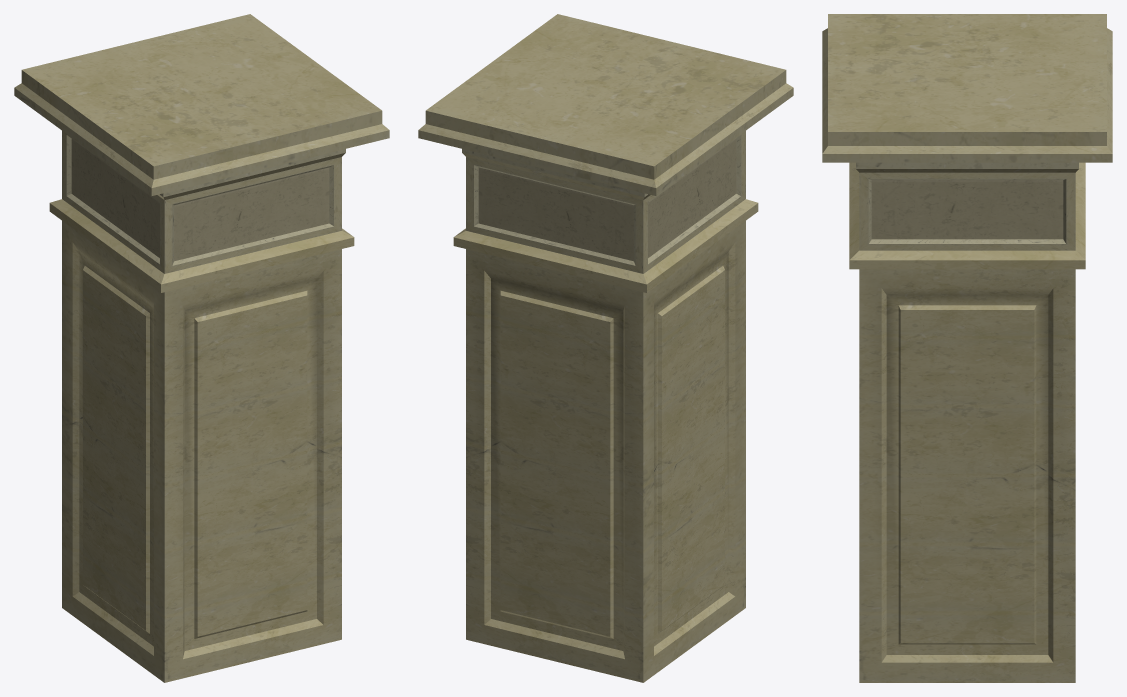
Rendered from Marble_Column_Large_Top.gltf.
3 views of the same model, side by side, from view 1: azimuth 30°, elevation 25°; view 2: azimuth 150°, elevation 25°; view 3: azimuth 270°, elevation 25° (orthographic). The views are drawn at different scales.
Visible parts, largest first — view 1: Marble_Column_Large_Top; view 2: Marble_Column_Large_Top; view 3: Marble_Column_Large_Top.
Part boxes in pixels (x1=…): Marble_Column_Large_Top: x1=14, y1=14, x2=389, y2=682; Marble_Column_Large_Top: x1=418, y1=14, x2=793, y2=682; Marble_Column_Large_Top: x1=822, y1=14, x2=1112, y2=682.
Bounding box in the file's own units: 1.87 × 4 × 1.87.
2 materials, 2 textured.
